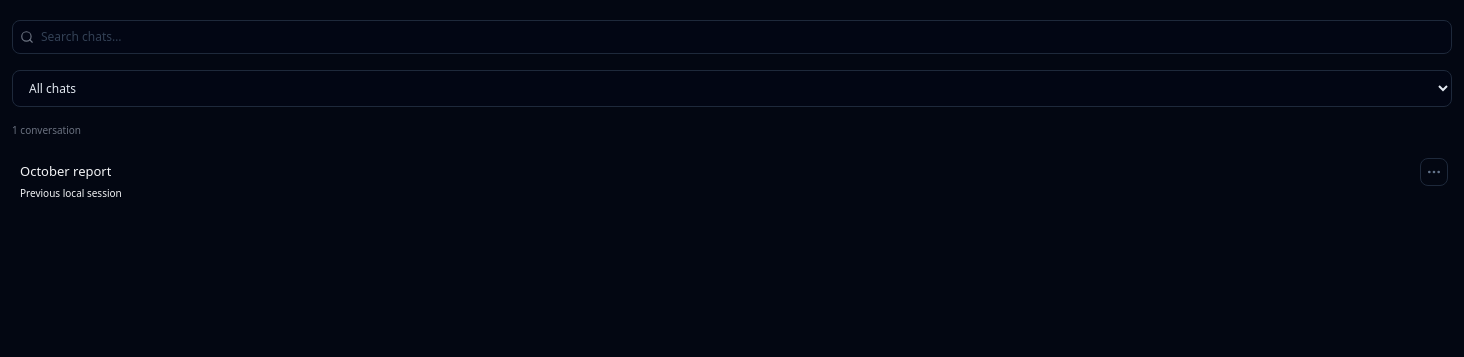
Test: conversation library controls › returns focus to search when renaming removes a row from the current search
Type "October" into the search field named "Search conversations".
click(732, 37); type("October")  # box [12,20,1452,54]
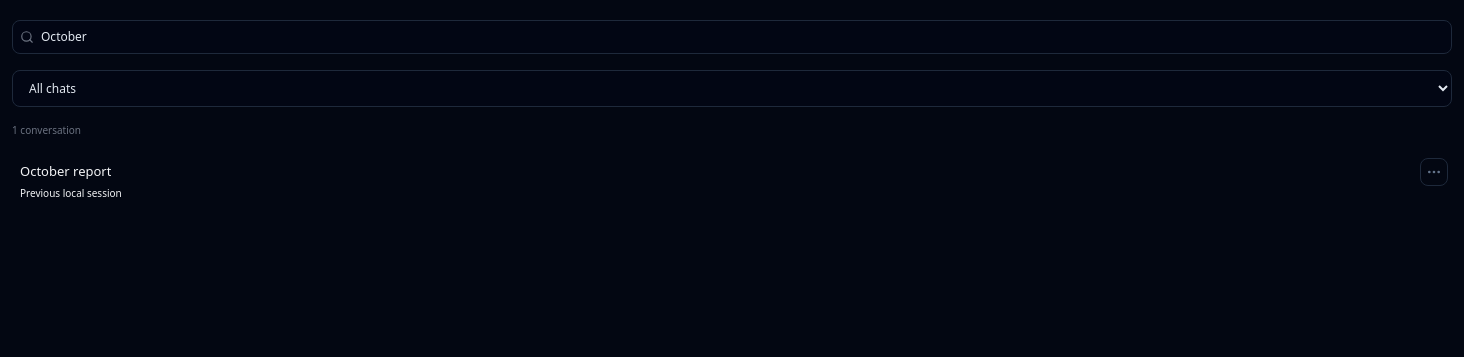
Click the button named "Options for October report".
click(1434, 172)  # box [1420,158,1448,186]
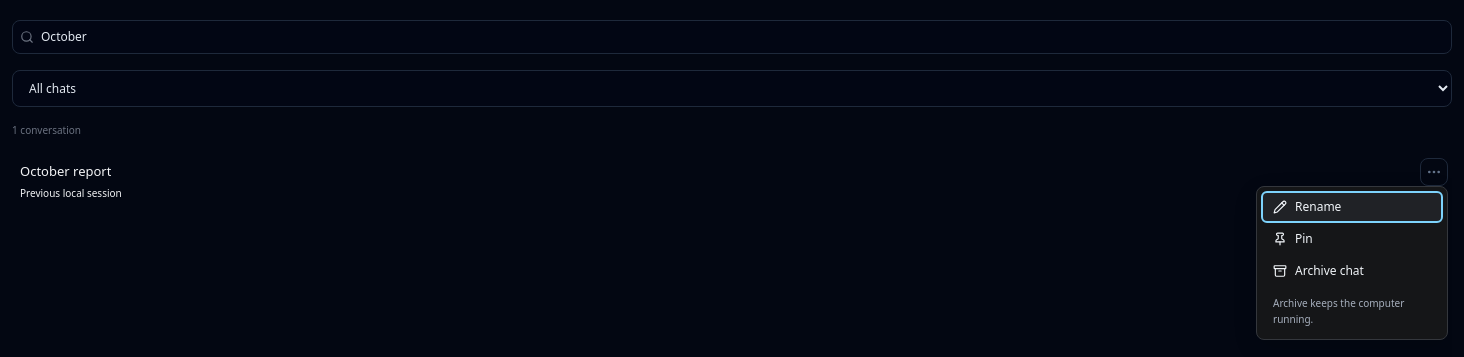
Click the menu item "Rename".
click(1352, 207)  # box [1261,191,1443,223]
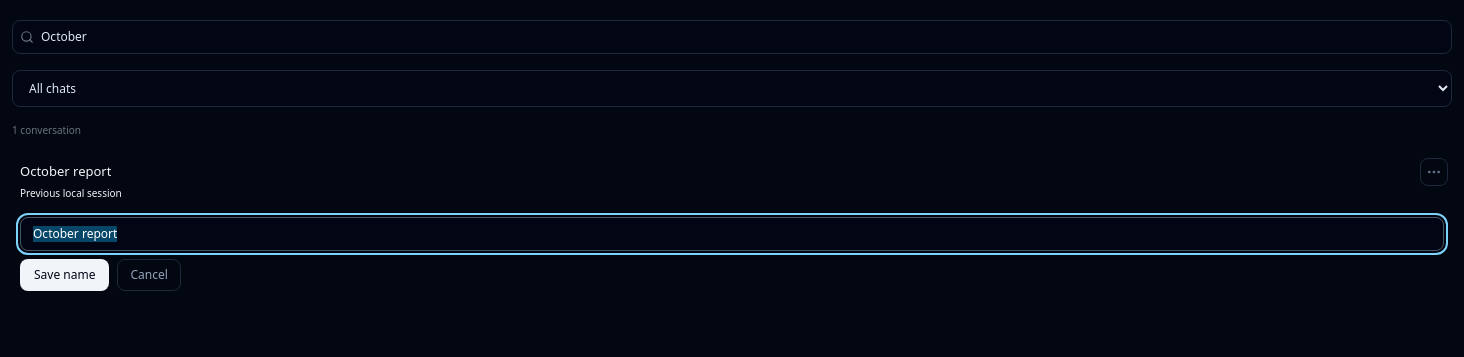
Replace the text in the field named "Conversation name" with "Monthly report" at (732, 234), box [20,216,1444,250]
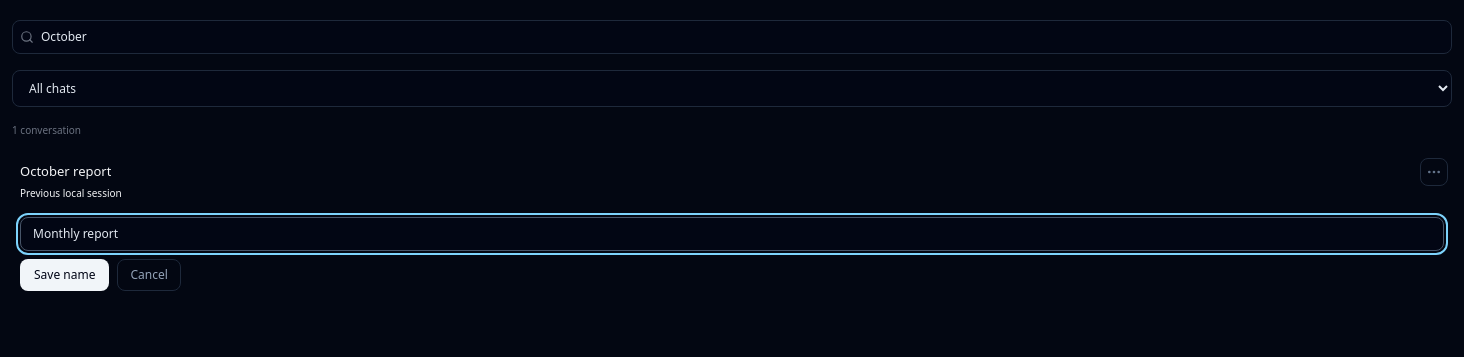
Click the button "Save name".
click(65, 274)  # box [20,258,110,290]
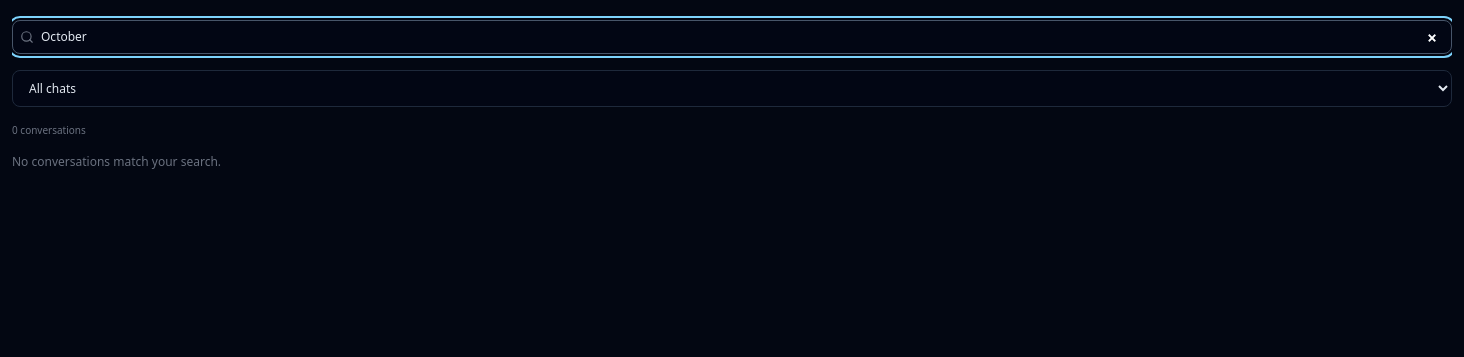
expect the text "No conversations match your search." is shown: met, box [12,153,221,170]
